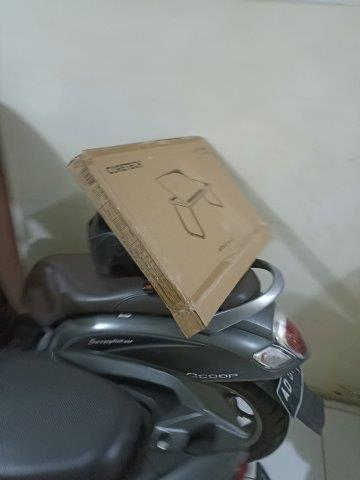kardus: (66, 136, 270, 337)
